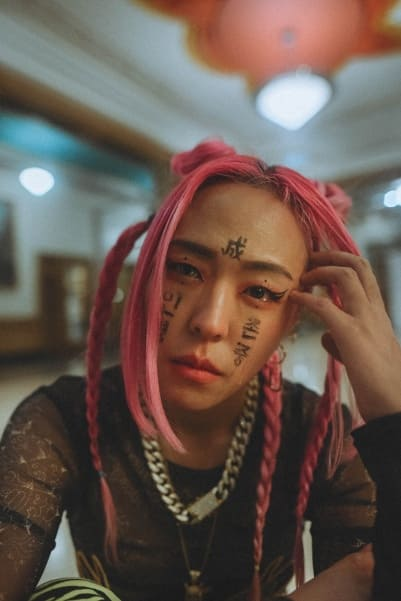person: (0, 140, 401, 601)
